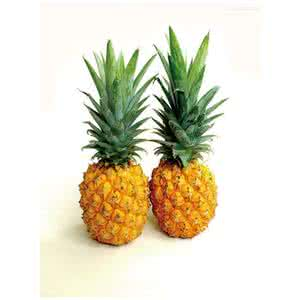pineapple: (145, 29, 228, 240), (81, 45, 152, 243)
